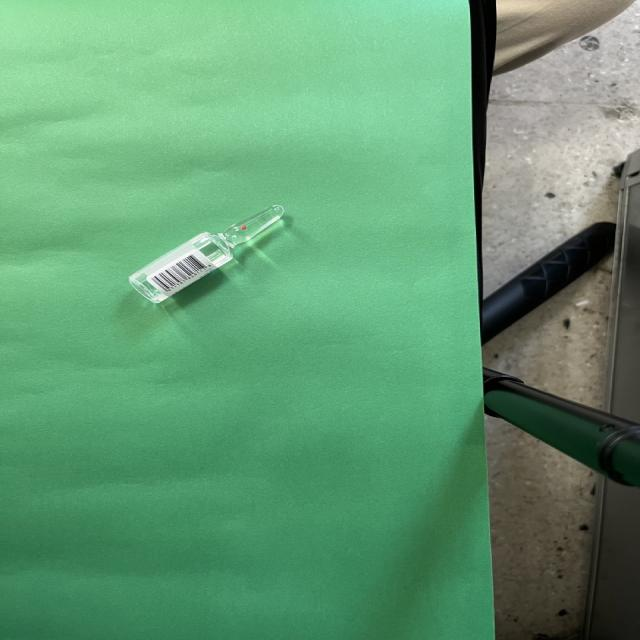Ampoules: (128, 206, 285, 304)
